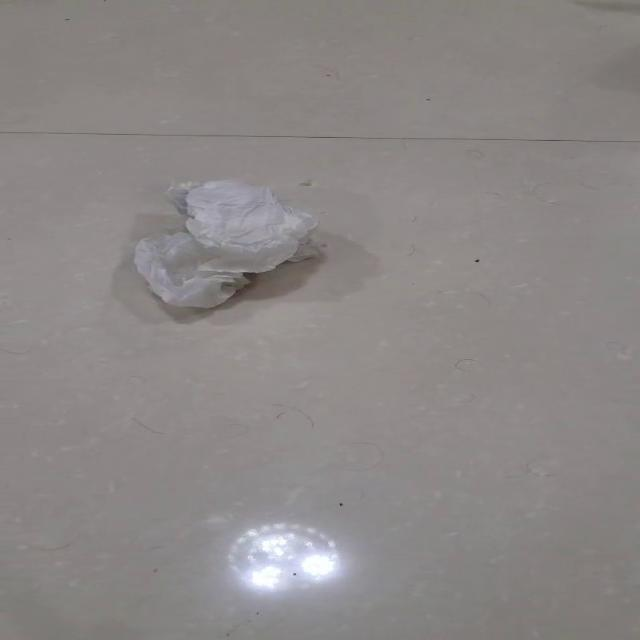plastic: (131, 178, 319, 308)
